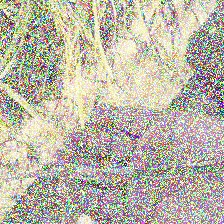Leaf_Blast: (11, 155, 219, 185)
